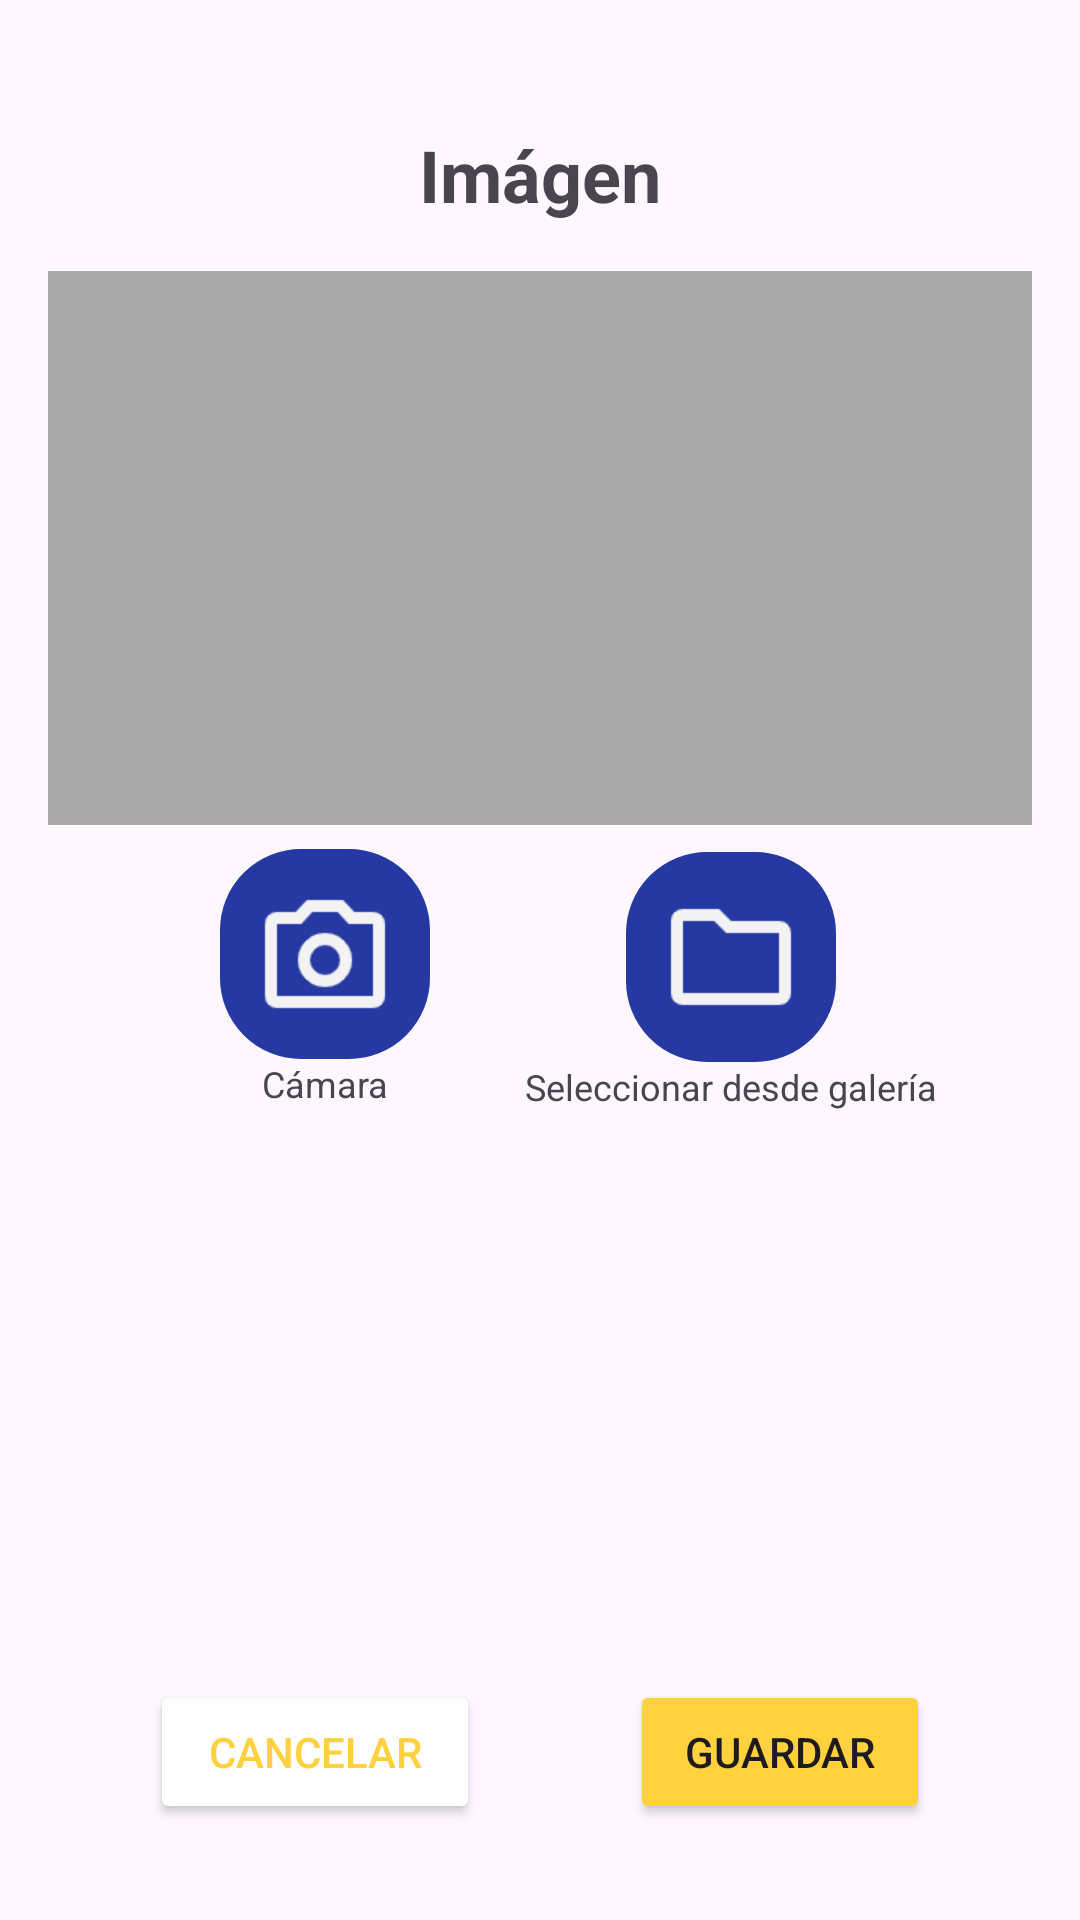

Icons on this 1080x1920 Android screen, each with the point to tap as point (x, y):
folder: point (731, 957)
